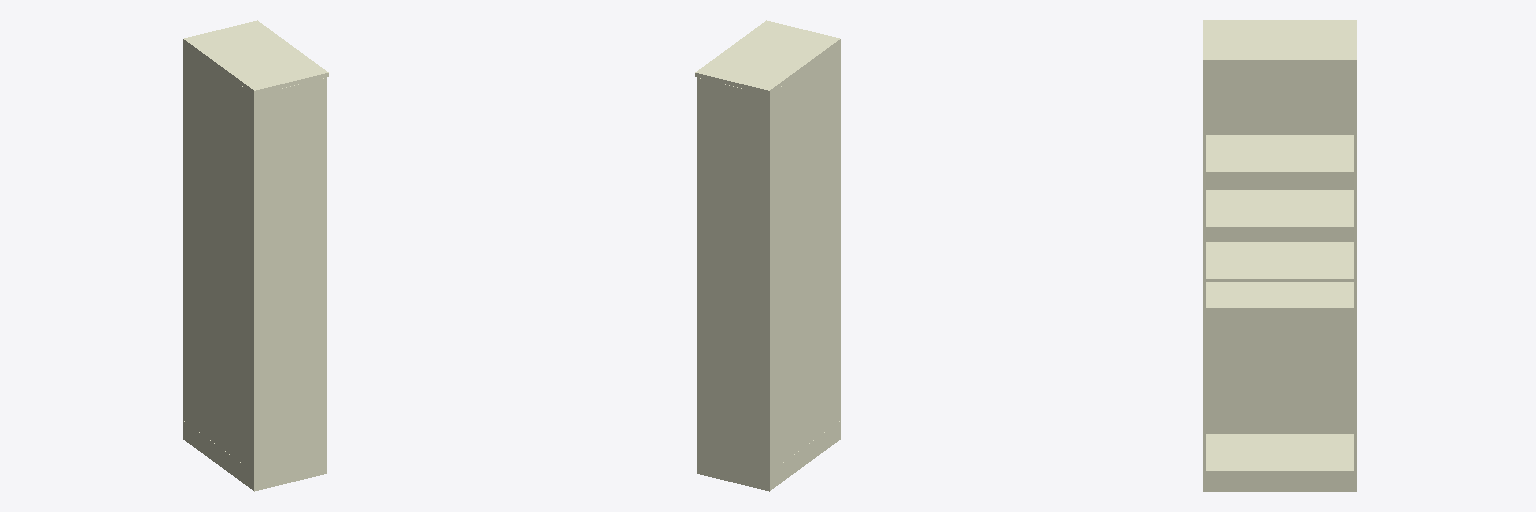
robot.urdf — cupboard_body-robot:
<?xml version="1.0"?>
<robot name="cupboard_body-robot"
       xmlns:xi="http://www.w3.org/2001/XInclude"
       xmlns:gazebo="http://playerstage.sourceforge.net/gazebo/xmlschema/#gz"
       xmlns:model="http://playerstage.sourceforge.net/gazebo/xmlschema/#model"
       xmlns:sensor="http://playerstage.sourceforge.net/gazebo/xmlschema/#sensor"
       xmlns:body="http://playerstage.sourceforge.net/gazebo/xmlschema/#body"
       xmlns:geom="http://playerstage.sourceforge.net/gazebo/xmlschema/#geom"
       xmlns:joint="http://playerstage.sourceforge.net/gazebo/xmlschema/#joint"
       xmlns:interface="http://playerstage.sourceforge.net/gazebo/xmlschema/#interface"
       xmlns:rendering="http://playerstage.sourceforge.net/gazebo/xmlschema/#rendering"
       xmlns:renderable="http://playerstage.sourceforge.net/gazebo/xmlschema/#renderable"
       xmlns:controller="http://playerstage.sourceforge.net/gazebo/xmlschema/#controller"
       xmlns:physics="http://playerstage.sourceforge.net/gazebo/xmlschema/#physics">
  <gazebo>
    <static>false</static>
  </gazebo>
  <link name="nil_link">
    <visual>
      <origin xyz="0 0 0" rpy="0 -0 0"/>
      <geometry>
        <mesh filename="model://cupboard_body/meshes/nil_link_mesh.dae" scale="1 1 1" />
      </geometry>
    </visual>
    <collision>
      <origin xyz="0 0 0" rpy="0 -0 0"/>
      <geometry>
        <mesh filename="model://cupboard_body/meshes/nil_link_mesh.dae" scale="1 1 1" />
      </geometry>
    </collision>
    <inertial>
      <mass value="20.0" />
      <origin xyz="0 0 0.1" rpy="0 0 0"/>
      <inertia ixx="6.6875" ixy="0" ixz="0" iyy="5.7411" iyz="0" izz="0.788"/>
    </inertial>
  </link>
  <gazebo reference="nil_link">
    <!-- <kp>100000.0</kp> -->
    <!-- <kd>100.0</kd> -->
    <mu1>0.1</mu1>
    <mu2>0.1</mu2>
    <fdir1>1 0 0</fdir1>
    <!-- <maxVel>10.0</maxVel> -->
    <!-- <minDepth>0.00</minDepth> -->
  </gazebo>
  <gazebo>
    <plugin filename="libAddForcePlugin2.so" name="simple_box_add_force_plugin2">
      <objname>obj</objname>
      <linkname1>LARM_LINK6</linkname1>
      <linkname2>RARM_LINK6</linkname2>
    </plugin>
    <plugin filename="libGetVelPlugin.so" name="simple_box_get_vel_plugin">
      <objname>obj</objname>
      <linkname>nil_link</linkname>
    </plugin>
    <plugin filename="libSetVelPlugin.so" name="simple_box_set_vel_plugin">
      <objname>obj</objname>
      <linkname>nil_link</linkname>
    </plugin>
  </gazebo>
</robot>

--- Facts derived from the render (not from the file) ---
3 views of the same robot in one strip: view 1: azimuth 30°, elevation 25°; view 2: azimuth 150°, elevation 25°; view 3: azimuth 270°, elevation 25° (orthographic).
Model cupboard_body-robot with 1 links and 0 joints (none), rooted at nil_link, posed every joint at zero.
Visible links, largest first — view 1: nil_link; view 2: nil_link; view 3: nil_link.
Boxes of the visible links, left/top/right/bottom form: nil_link: left=183, top=20, right=328, bottom=491; nil_link: left=695, top=20, right=840, bottom=491; nil_link: left=1203, top=20, right=1356, bottom=491.
Size in the robot's own frame: 0.353 by 0.586 by 1.82 metres.
Meshes: 1 distinct files referenced, 1 mesh visuals loaded (1 Collada DAE).